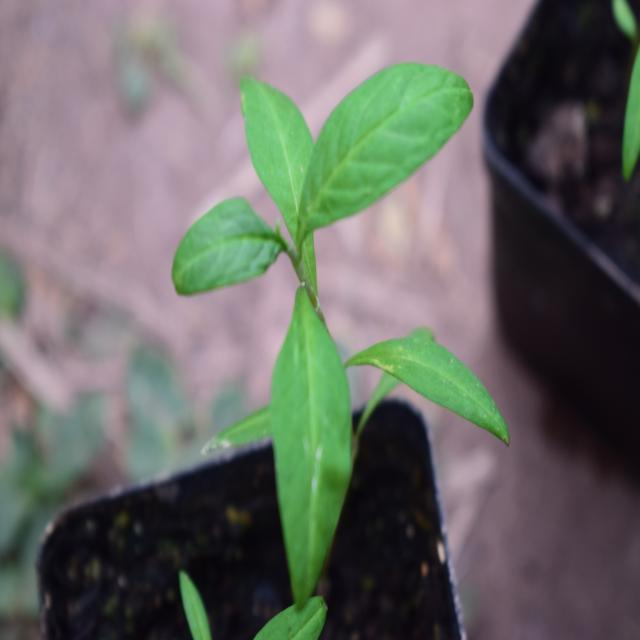white_smart_weed: (158, 23, 522, 573)
